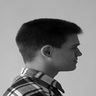ear: (36, 38, 57, 62)
